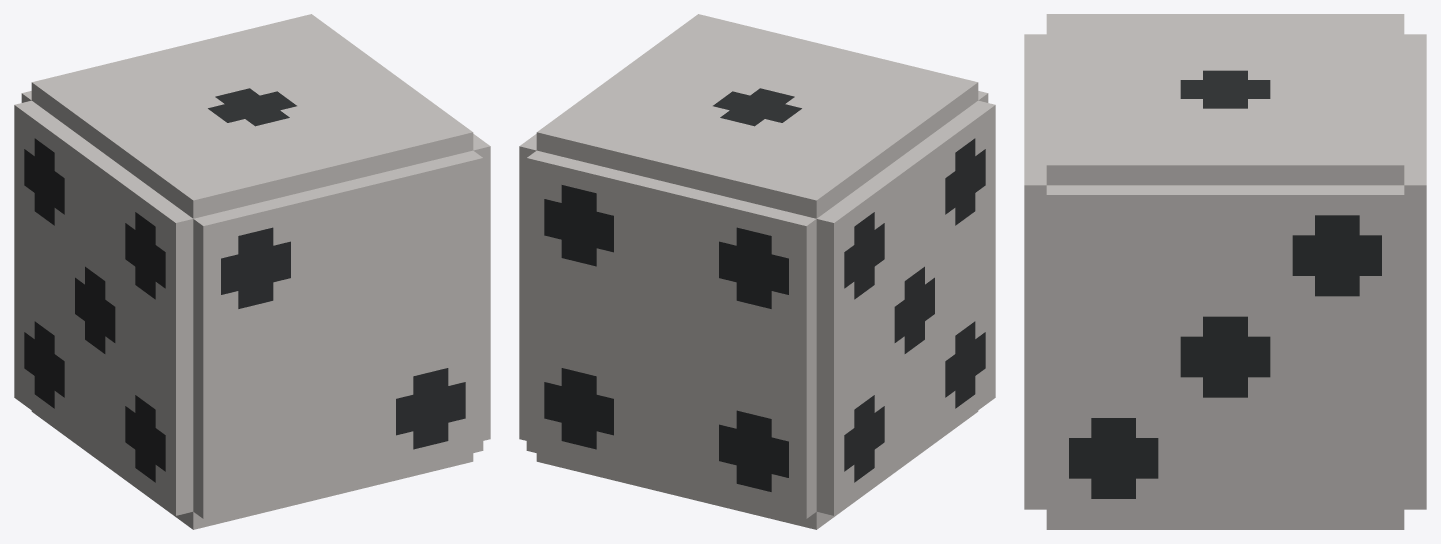
The model's file is dice-v3-white-black.gltf.
3 renders of one model, left to right at view 1: azimuth 30°, elevation 25°; view 2: azimuth 150°, elevation 25°; view 3: azimuth 270°, elevation 25°, orthographic. The views are drawn at different scales.
Visible parts, largest first — view 1: Untitled; view 2: Untitled; view 3: Untitled.
Part boxes in pixels (bbox=[...]): Untitled: bbox=[14, 14, 490, 529]; Untitled: bbox=[519, 14, 995, 529]; Untitled: bbox=[1024, 14, 1426, 529].
Size of the model in its own units: 1.8 by 1.8 by 1.8.
1 material, 1 textured.
